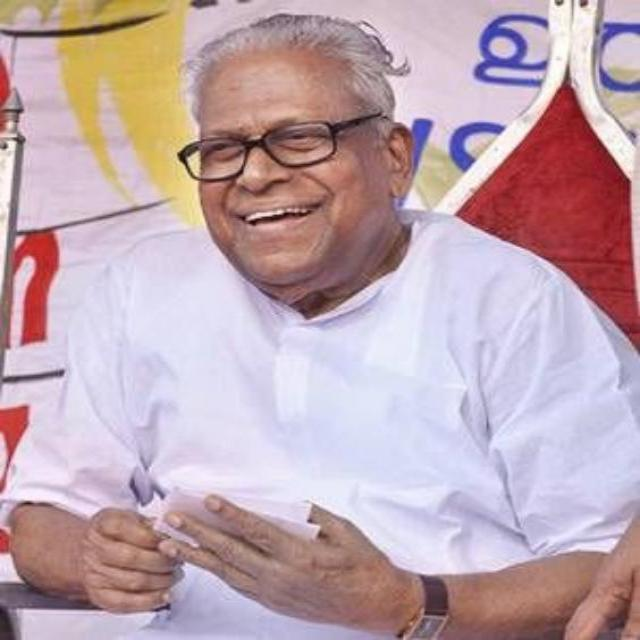glasses: (179, 116, 384, 182)
